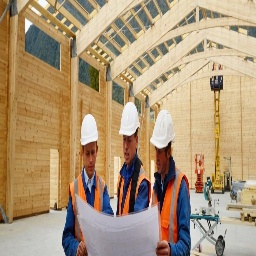helmet: (150, 102, 176, 152), (119, 101, 140, 144), (79, 115, 100, 147)
person: (64, 115, 113, 256), (153, 102, 192, 256), (113, 101, 152, 207)
vest: (153, 168, 192, 245), (68, 172, 108, 247), (117, 158, 151, 219)
